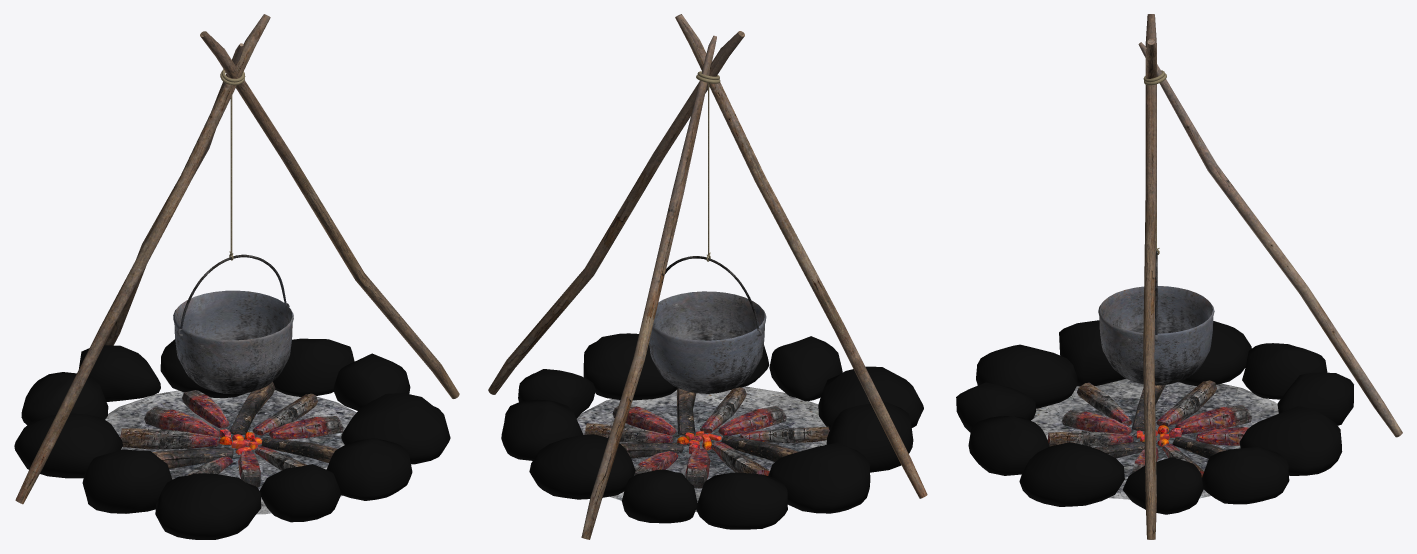
File: camp.FBX
The picture shows the model from 3 angles, left to right: view 1: azimuth 30°, elevation 25°; view 2: azimuth 150°, elevation 25°; view 3: azimuth 270°, elevation 25°; orthographic projection. The views are drawn at different scales.
Parts seen in each view (by area): view 1: Camp_Fire_Fire_Woods_Rocks, Camp_Fire_woods_and_ground_Fire_Woods, Camp_Fire_Fire_Woods_utensil_and_rope; view 2: Camp_Fire_Fire_Woods_Rocks, Camp_Fire_woods_and_ground_Fire_Woods, Camp_Fire_Fire_Woods_utensil_and_rope; view 3: Camp_Fire_Fire_Woods_Rocks, Camp_Fire_woods_and_ground_Fire_Woods, Camp_Fire_Fire_Woods_utensil_and_rope.
Boxes of the visible parts, left/top/right/bottom form: Camp_Fire_Fire_Woods_Rocks: left=14, top=338, right=450, bottom=539; Camp_Fire_woods_and_ground_Fire_Woods: left=15, top=14, right=459, bottom=514; Camp_Fire_Fire_Woods_utensil_and_rope: left=173, top=69, right=293, bottom=394; Camp_Fire_Fire_Woods_Rocks: left=501, top=333, right=923, bottom=529; Camp_Fire_woods_and_ground_Fire_Woods: left=488, top=14, right=927, bottom=539; Camp_Fire_Fire_Woods_utensil_and_rope: left=649, top=71, right=766, bottom=393; Camp_Fire_Fire_Woods_Rocks: left=956, top=320, right=1353, bottom=514; Camp_Fire_woods_and_ground_Fire_Woods: left=1031, top=14, right=1402, bottom=539; Camp_Fire_Fire_Woods_utensil_and_rope: left=1098, top=70, right=1214, bottom=385.
Bounding box in the file's own units: 76.55 × 71.17 × 69.56.
